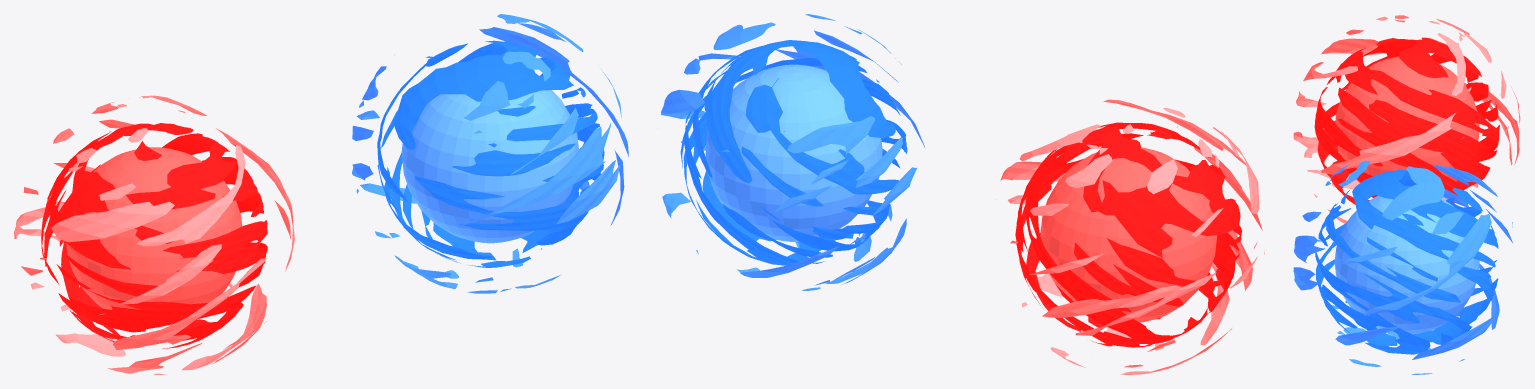
File: hollow_purple.glb
3 views of the same model, side by side, from view 1: azimuth 30°, elevation 25°; view 2: azimuth 150°, elevation 25°; view 3: azimuth 270°, elevation 25° (orthographic). The views are drawn at different scales.
Visible parts, largest first — view 1: Sphere.002, Sphere.005, Sphere.004, Sphere, Sphere.001, Sphere.003; view 2: Sphere.002, Sphere.005, Sphere.004, Sphere.001, Sphere, Sphere.003; view 3: Sphere.002, Sphere.005, Sphere.003, Sphere.004, Sphere, Sphere.001.
Part boxes in pixels (x1,y1,x2,y2): Sphere.002: (41, 123, 267, 348); Sphere.005: (377, 40, 604, 267); Sphere.004: (401, 90, 578, 243); Sphere: (14, 95, 294, 374); Sphere.001: (66, 147, 242, 309); Sphere.003: (352, 14, 628, 293); Sphere.002: (1015, 122, 1241, 347); Sphere.005: (680, 40, 907, 265); Sphere.004: (705, 64, 882, 241); Sphere.001: (1040, 147, 1216, 322); Sphere: (1000, 99, 1264, 374); Sphere.003: (661, 14, 925, 290); Sphere.002: (1314, 37, 1499, 204); Sphere.005: (1315, 169, 1498, 354); Sphere.003: (1293, 160, 1512, 374); Sphere.004: (1334, 195, 1479, 334); Sphere: (1293, 15, 1520, 223); Sphere.001: (1335, 56, 1479, 182).
Size of the model in its own units: 3.54 by 1.46 by 1.48.
